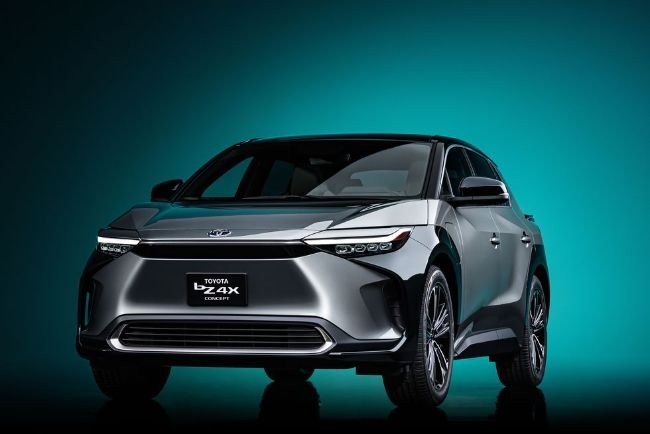mobil: (37, 100, 563, 409)
